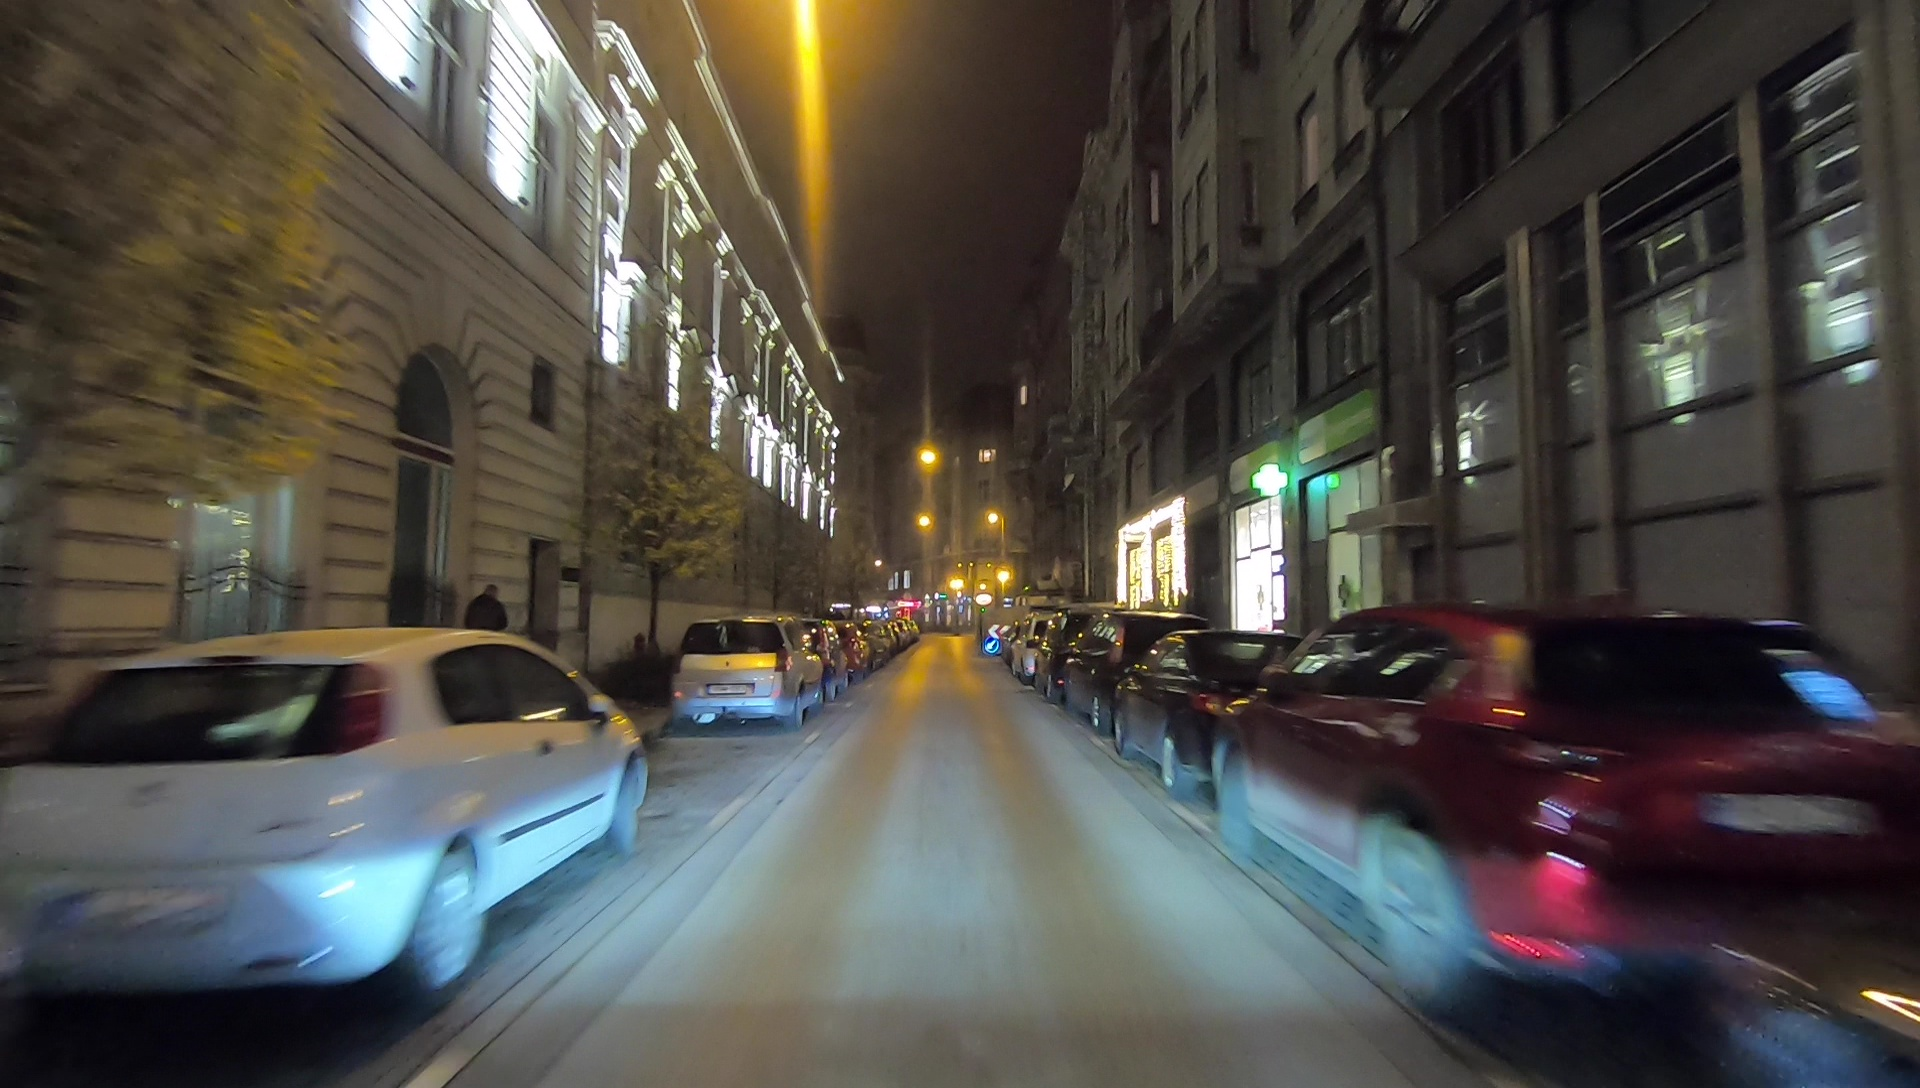person: (465, 582, 506, 710)
